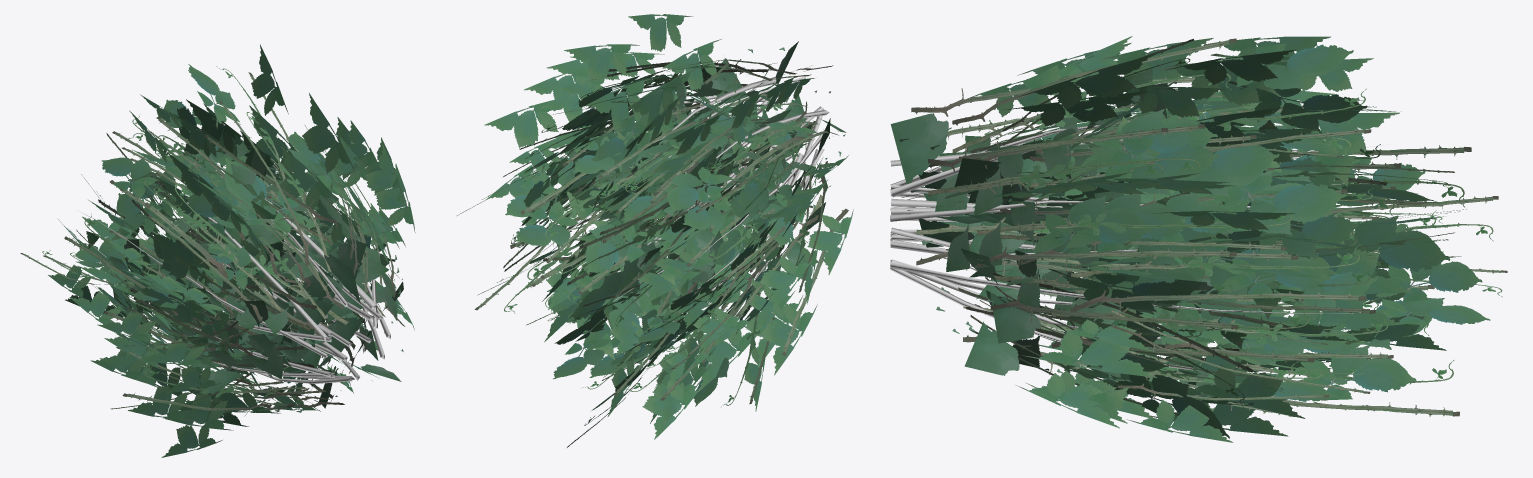
Rendered from Bush_0032.FBX.
3 renders of one model, left to right at view 1: azimuth 30°, elevation 25°; view 2: azimuth 150°, elevation 25°; view 3: azimuth 270°, elevation 25°, orthographic. The views are drawn at different scales.
Parts seen in each view (by area): view 1: plant2_LOD0; view 2: plant2_LOD0; view 3: plant2_LOD0.
Part boxes in pixels (left/top/right/bottom): plant2_LOD0: left=20, top=44, right=415, bottom=457; plant2_LOD0: left=457, top=14, right=853, bottom=447; plant2_LOD0: left=890, top=36, right=1507, bottom=442.
Size of the model in its own units: 32.95 by 49.7 by 41.3.
